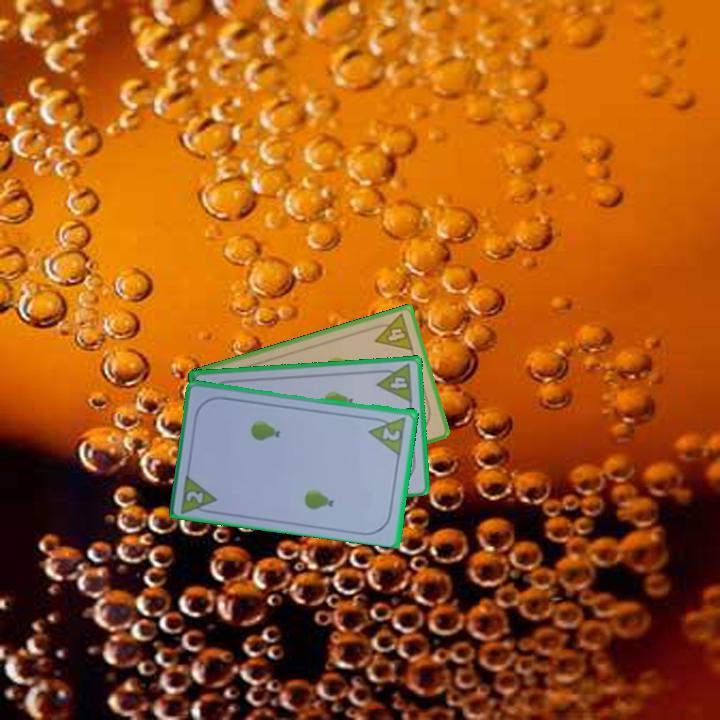2p: (177, 470, 221, 517), (366, 413, 409, 457)
4p: (368, 310, 416, 354), (373, 361, 415, 405)
